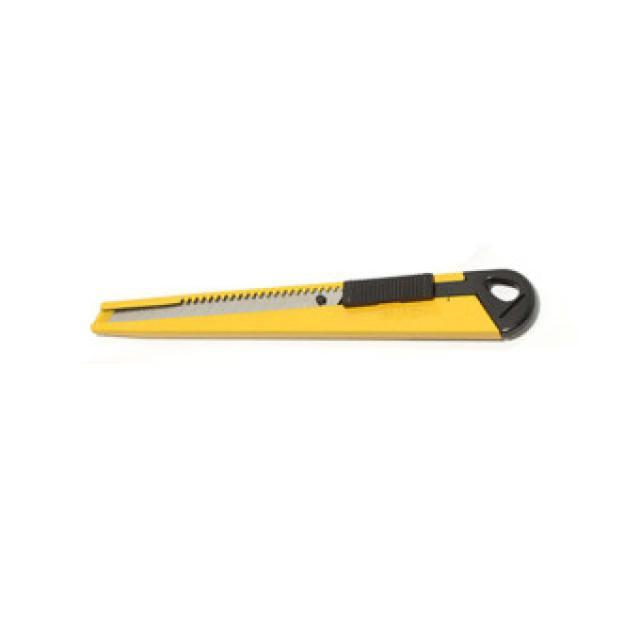cutter: (90, 255, 543, 367)
